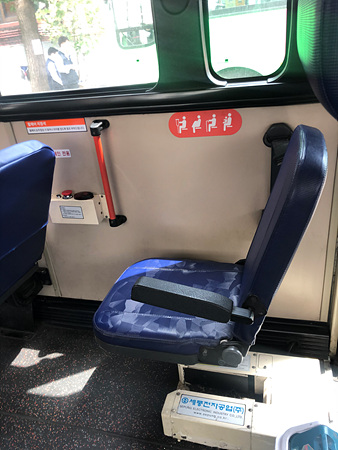seat: (101, 123, 327, 365)
